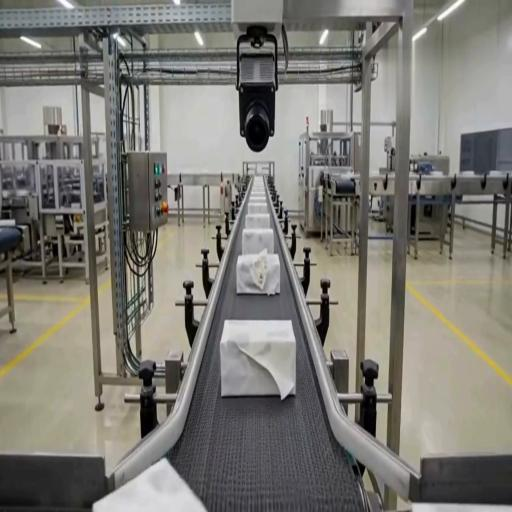defective: (93, 456, 209, 510), (220, 320, 295, 399), (237, 252, 281, 295)
good: (243, 227, 273, 254), (244, 212, 270, 229), (247, 200, 269, 214)
